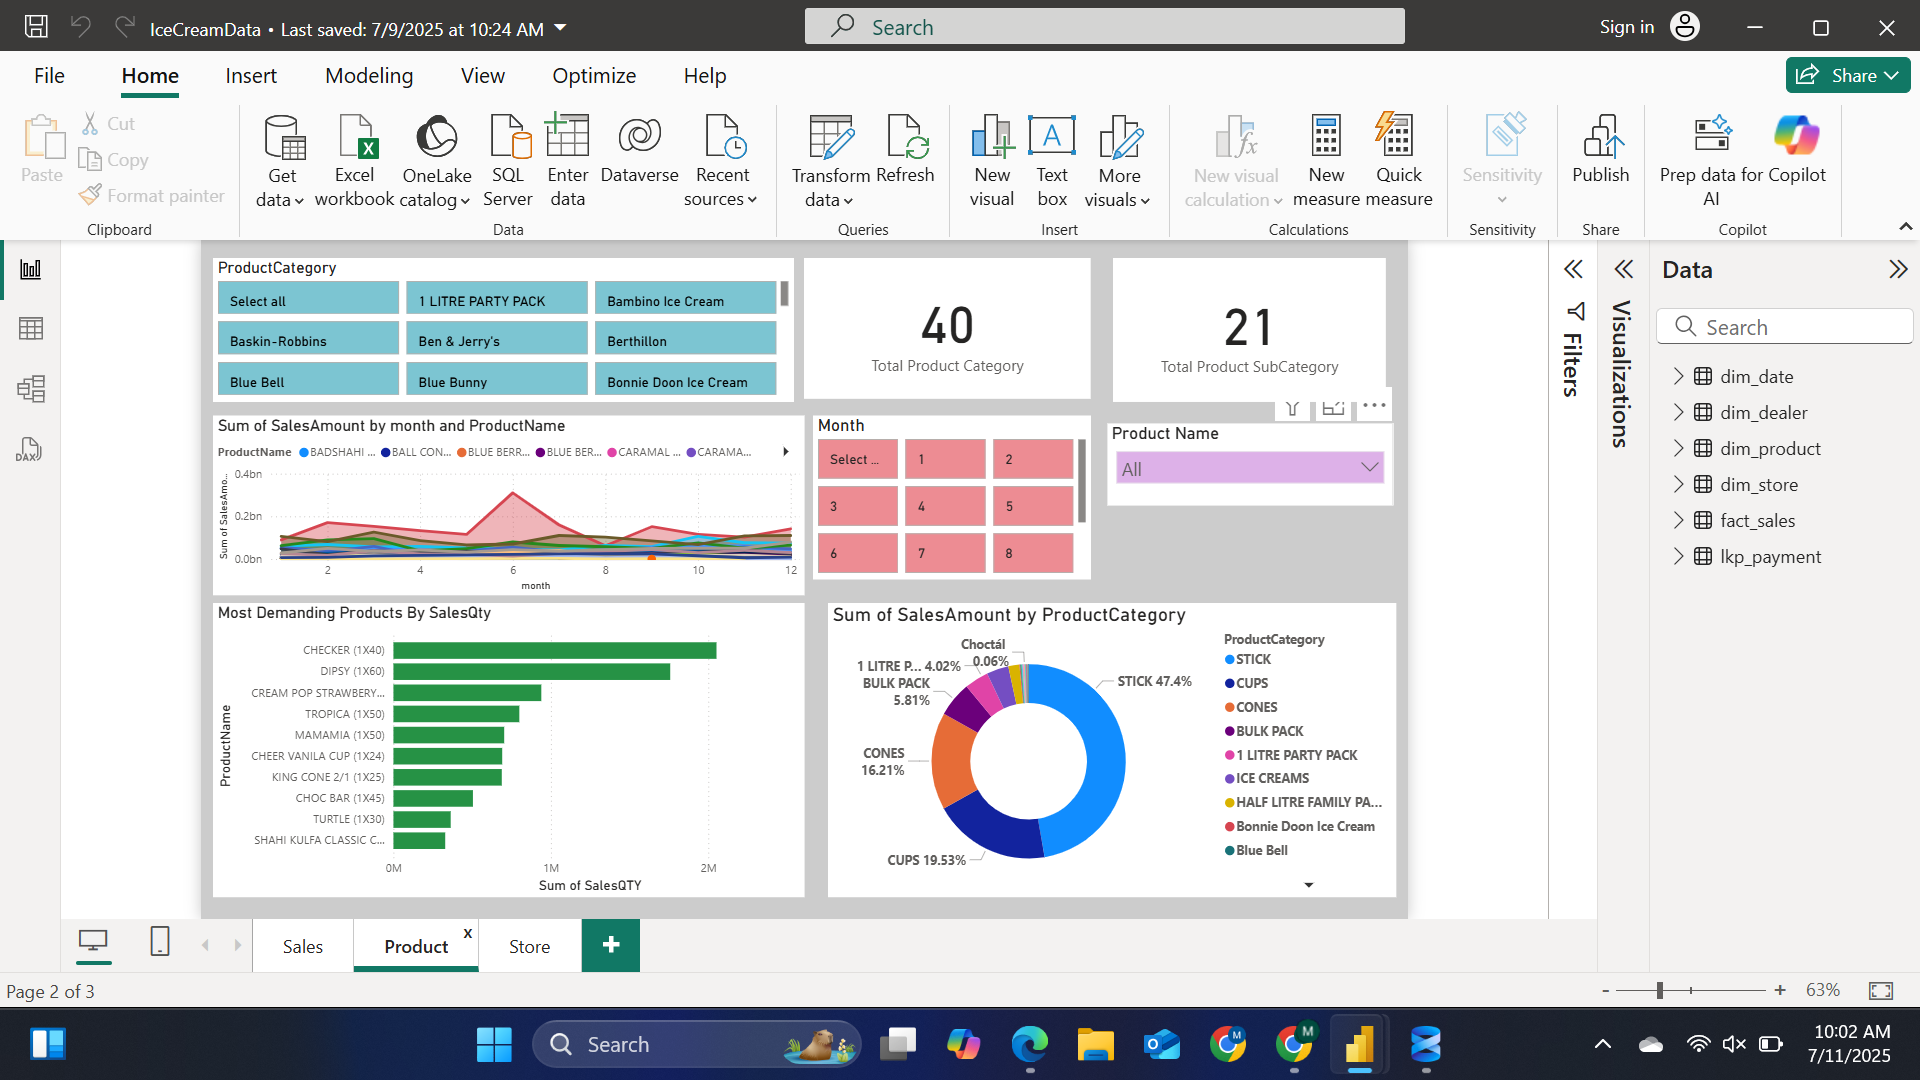

This screenshot's page, from the dashboard's own definition file:
{"tool":"powerbi","page":{"name":"Product","canvas":[1280,720],"ordinal":1},"visuals":[{"type":"clusteredBarChart","title":"Most Demanding Products By SalesQty","fields":{"Y":["Sum(fact_sales.SalesQTY)"],"Category":["dim_product.ProductName"]},"box":[13.2,385.5,627.4,311.8],"z":0},{"type":"advancedSlicerVisual","fields":{"Values":["dim_product.ProductCategory"]},"box":[12.7,19.1,615.6,152.7],"z":1000},{"type":"slicer","title":"Product Name","fields":{"Values":["dim_product.ProductName"]},"box":[960.7,194.1,303.8,87.5],"z":2000},{"type":"card","fields":{"Values":["dim_product.TotalNoOfProducts"]},"box":[639.4,19.1,303.8,149.5],"z":3000},{"type":"card","fields":{"Values":["dim_product.Total Product SubCategory"]},"box":[967.1,19.1,289.5,152.7],"z":4000},{"type":"donutChart","fields":{"Category":["dim_product.ProductCategory"],"Y":["Sum(fact_sales.SalesAmount)"]},"box":[664.9,384.9,602.8,311.8],"z":5000},{"type":"areaChart","fields":{"Y":["Sum(fact_sales.SalesAmount)"],"Category":["dim_date.month"],"Series":["dim_product.ProductName"]},"box":[12.7,186.4,627.3,190.9],"z":6000},{"type":"advancedSlicerVisual","title":"Month","fields":{"Values":["dim_date.month"]},"box":[649,186.1,294.3,173.4],"z":7000}]}

Visuals, with their boxes on the page's 1280x720 design canvas (x1, y1, x2, y2). These are canvas units, not pixel positions in the 1920x1080 screenshot, which may show the page scaled, cropped or inside an application window:
"Most Demanding Products By SalesQty" clusteredBarChart: {"left": 13, "top": 386, "right": 641, "bottom": 697}
advancedSlicerVisual - dim_product.ProductCategory: {"left": 13, "top": 19, "right": 628, "bottom": 172}
"Product Name" slicer: {"left": 961, "top": 194, "right": 1264, "bottom": 282}
card - dim_product.TotalNoOfProducts: {"left": 639, "top": 19, "right": 943, "bottom": 169}
card - dim_product.Total Product SubCategory: {"left": 967, "top": 19, "right": 1257, "bottom": 172}
donutChart - dim_product.ProductCategory x Sum(fact_sales.SalesAmount): {"left": 665, "top": 385, "right": 1268, "bottom": 697}
areaChart - Sum(fact_sales.SalesAmount) x dim_date.month: {"left": 13, "top": 186, "right": 640, "bottom": 377}
"Month" advancedSlicerVisual: {"left": 649, "top": 186, "right": 943, "bottom": 360}
